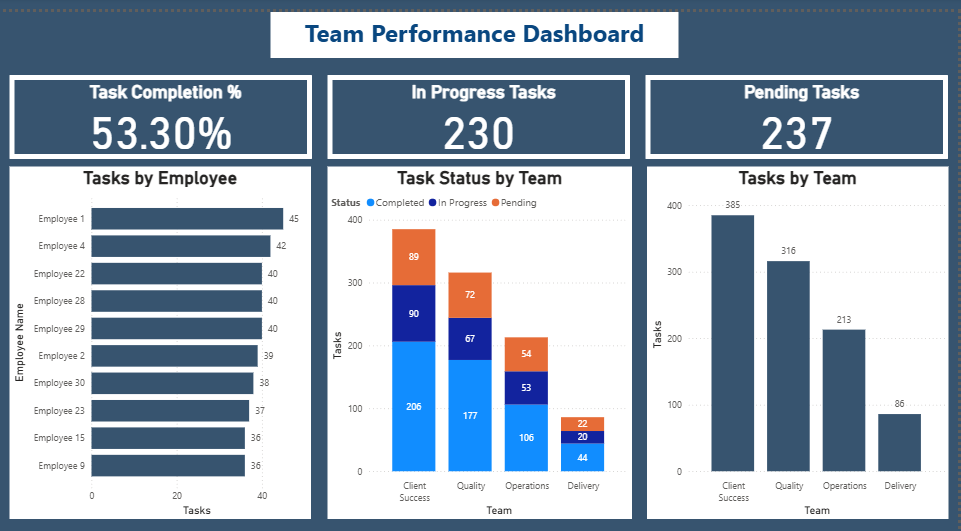

The dashboard page shown, as its layout file describes it:
{"tool":"powerbi","page":{"name":"Team Performance Dashboard","canvas":[1280,720],"ordinal":1},"visuals":[{"type":"clusteredBarChart","title":"Tasks by Employee","fields":{"Category":["Employees1.Employee Name"],"Y":["CountNonNull(Tasks3.Task ID)"]},"box":[14,206,402,470],"z":0},{"type":"clusteredColumnChart","title":"Tasks by Team","fields":{"Category":["Employees1.Team"],"Y":["CountNonNull(Tasks3.Task ID)"]},"box":[864,206,402,470],"z":1000},{"type":"columnChart","title":"Task Status by Team","fields":{"Category":["Employees1.Team"],"Y":["CountNonNull(Tasks3.Task ID)"],"Series":["Tasks3.Status"]},"box":[438,206,406,470],"z":2000},{"type":"textbox","box":[362.7,0,544.1,61.5],"z":3000},{"type":"card","title":"Task Completion %","fields":{"Values":["Tasks3.Task Completion %"]},"box":[13.3,83.3,403.3,111.7],"z":4000},{"type":"card","title":"In Progress Tasks","fields":{"Values":["Tasks3.In Progress Tasks"]},"box":[438.3,83.3,403.3,111.7],"z":5000},{"type":"card","title":"Pending Tasks","fields":{"Values":["Tasks3.Pending Tasks"]},"box":[861.7,83.3,403.3,111.7],"z":6000}]}

Visuals, with their boxes in screenshot pixels (x1, y1, x2, y2), scaled from the page's 1280x720 canvas onto the 961x531 screenshot:
"Tasks by Employee" clusteredBarChart: Rect(11, 152, 312, 499)
"Tasks by Team" clusteredColumnChart: Rect(649, 152, 950, 499)
"Task Status by Team" columnChart: Rect(329, 152, 634, 499)
textbox: Rect(272, 0, 681, 45)
"Task Completion %" card: Rect(10, 61, 313, 144)
"In Progress Tasks" card: Rect(329, 61, 632, 144)
"Pending Tasks" card: Rect(647, 61, 950, 144)
